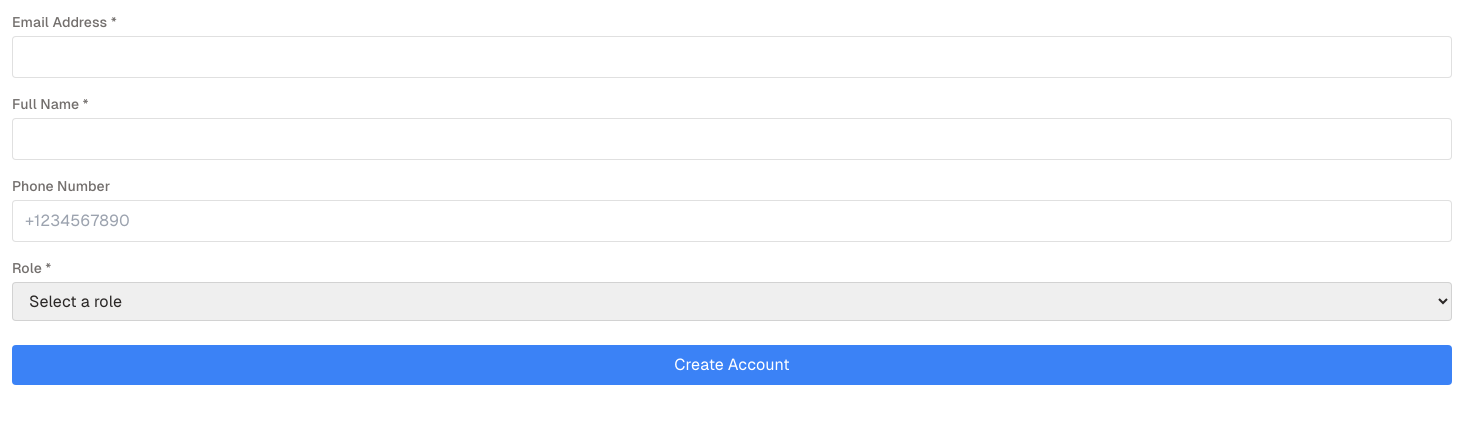
Scenario: CreateAccountForm › Form Validation › shows validation error when role is not selected
// Fill form but don't select role
Type "test@example.com" into the field labelled "Email Address *". click: (732, 57)
box: [12, 36, 1452, 78]
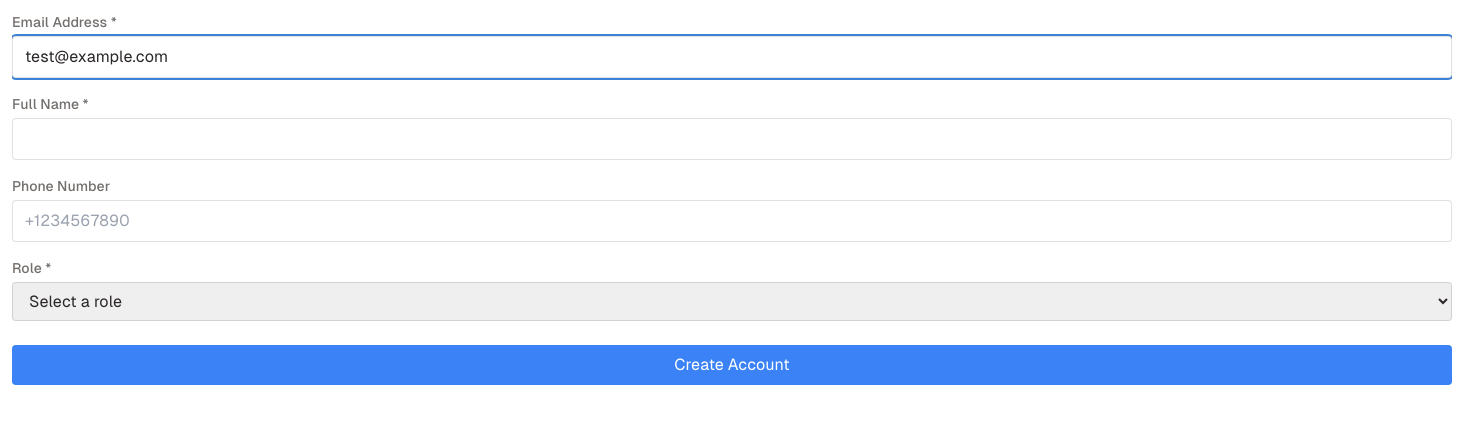
Type "Test User" into the field labelled "Full Name *". click: (732, 139)
box: [12, 118, 1452, 160]
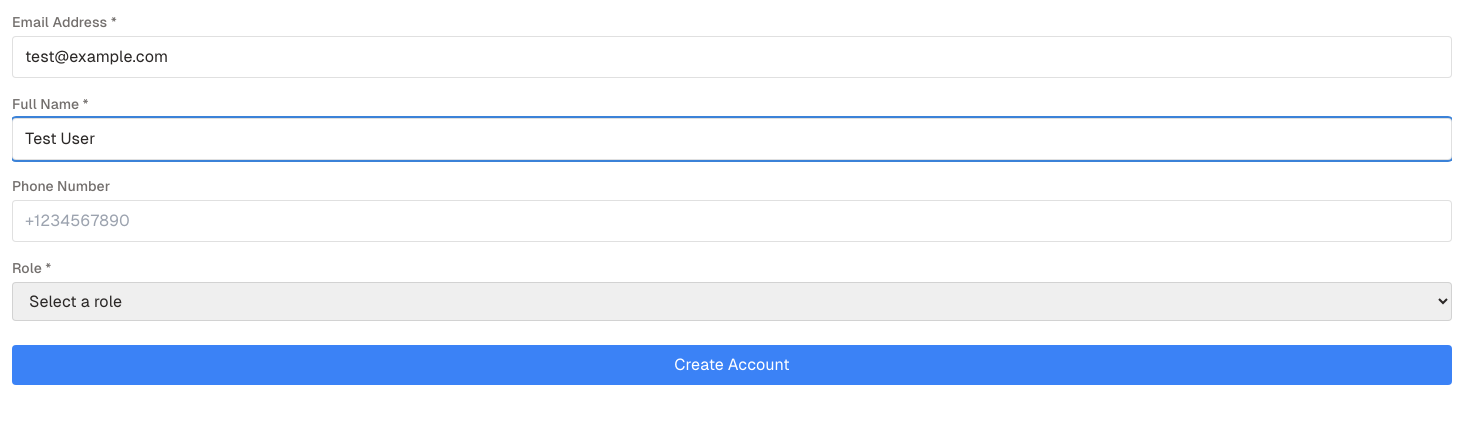
// Submit form
Click the button "Create Account". click: (732, 365)
box: [12, 345, 1452, 385]
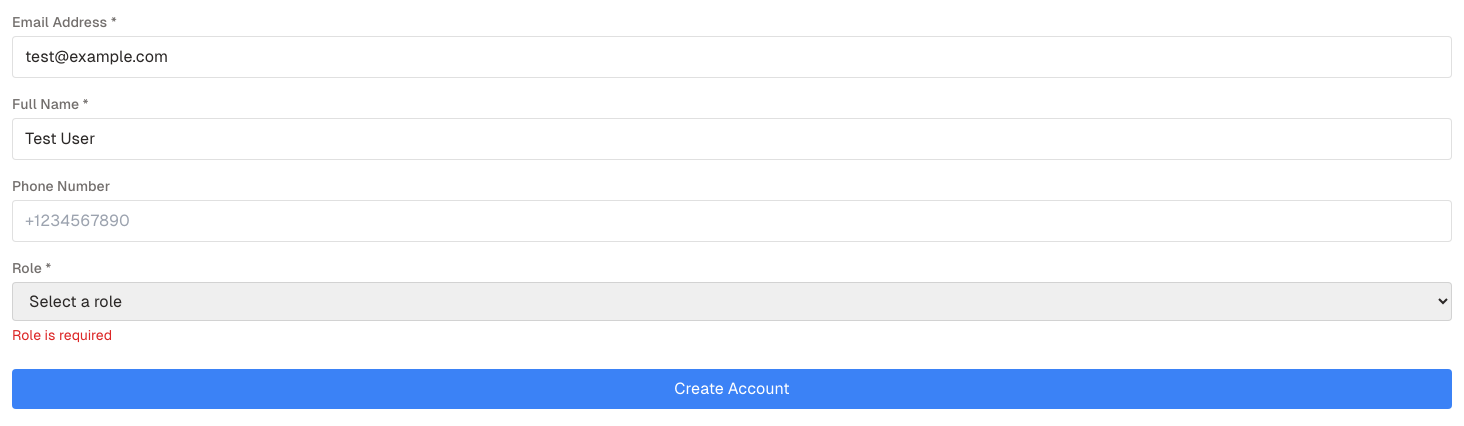
Expected: the message "Role is required" is shown, [12, 327, 112, 343]
